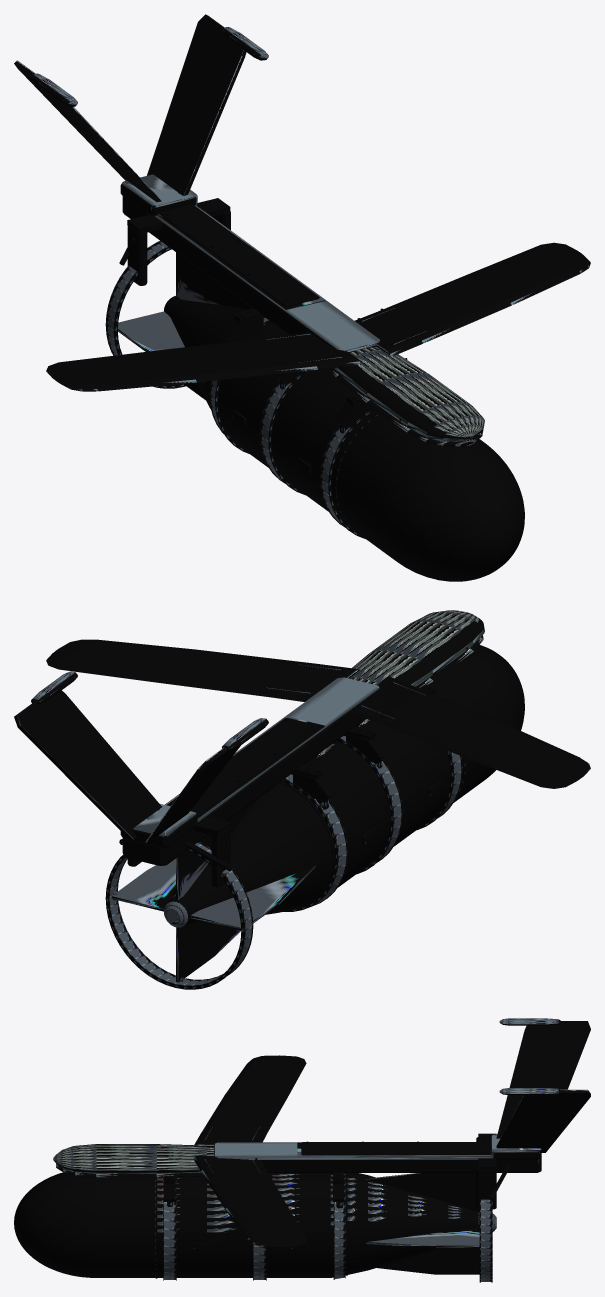
Rendered from glide_bomb.obj.
The picture shows the model from 3 angles, top to bottom: view 1: azimuth 30°, elevation 25°; view 2: azimuth 150°, elevation 25°; view 3: azimuth 270°, elevation 25°; orthographic projection. The views are drawn at different scales.
Parts seen in each view (by area): view 1: glide_bomb; view 2: glide_bomb; view 3: glide_bomb.
Boxes of the visible parts, x1,y1,x2,y2 form: glide_bomb: (14, 14, 590, 581); glide_bomb: (14, 610, 590, 989); glide_bomb: (14, 1018, 590, 1282).
Size of the model in its own units: 6.23 by 3.39 by 7.95.
